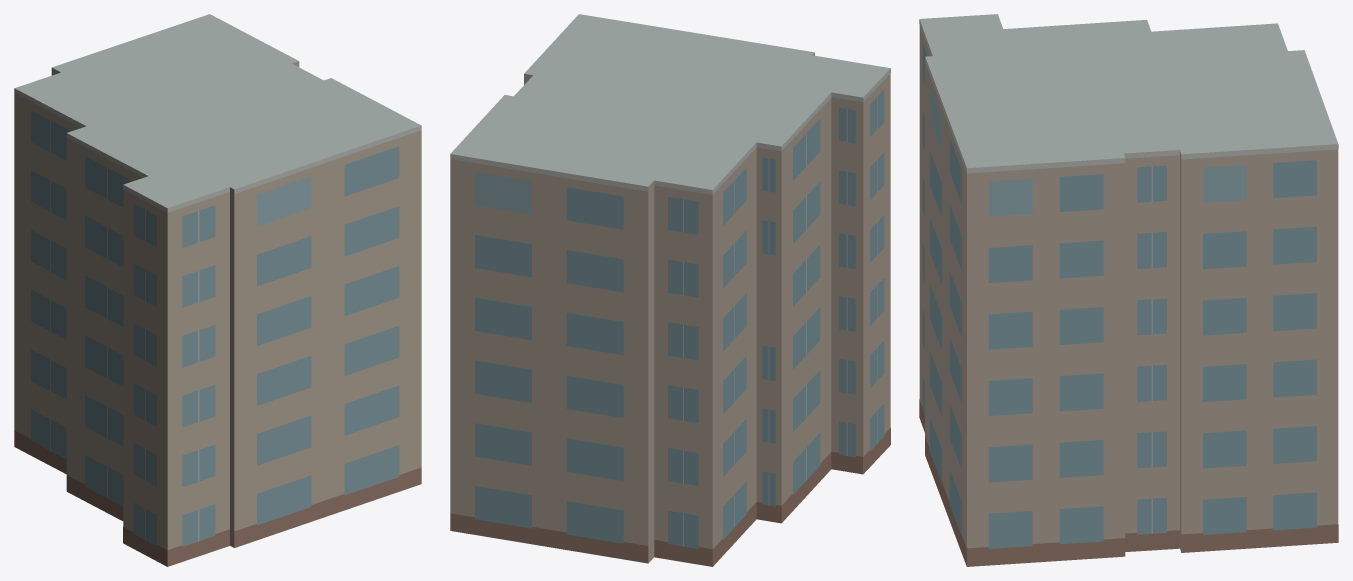
File: survey-upis-32576167.glb
The picture shows the model from 3 angles, left to right: view 1: azimuth 30°, elevation 25°; view 2: azimuth 150°, elevation 25°; view 3: azimuth 270°, elevation 25°; orthographic projection. The views are drawn at different scales.
Visible parts, largest first — view 1: survey-upis-32576167.tmp; view 2: survey-upis-32576167.tmp; view 3: survey-upis-32576167.tmp.
Boxes of the visible parts, bbox=[...] form: survey-upis-32576167.tmp: bbox=[14, 14, 421, 566]; survey-upis-32576167.tmp: bbox=[450, 14, 890, 566]; survey-upis-32576167.tmp: bbox=[919, 14, 1338, 566].
Bounding box in the file's own units: 15.45 × 18.6 × 17.73.
